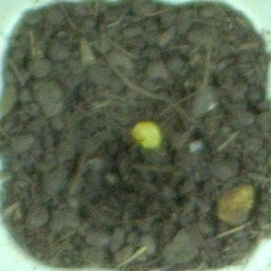chilli seed: (130, 119, 162, 150)
